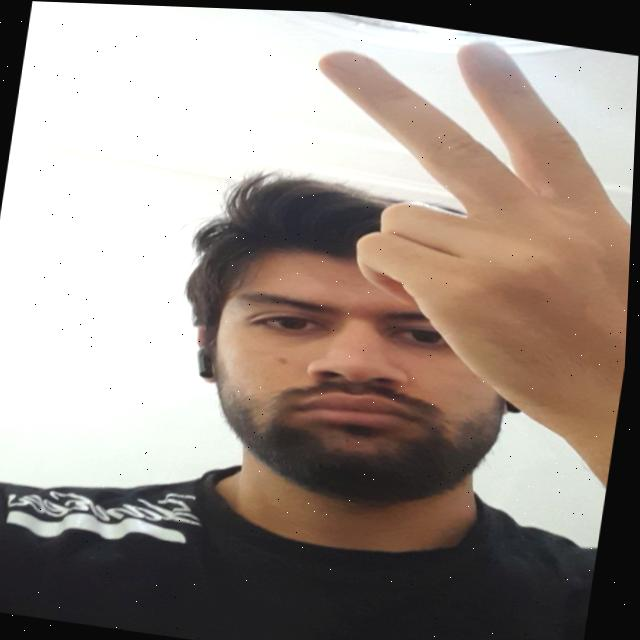Head: (160, 156, 560, 521)
Two: (262, 8, 640, 484)
